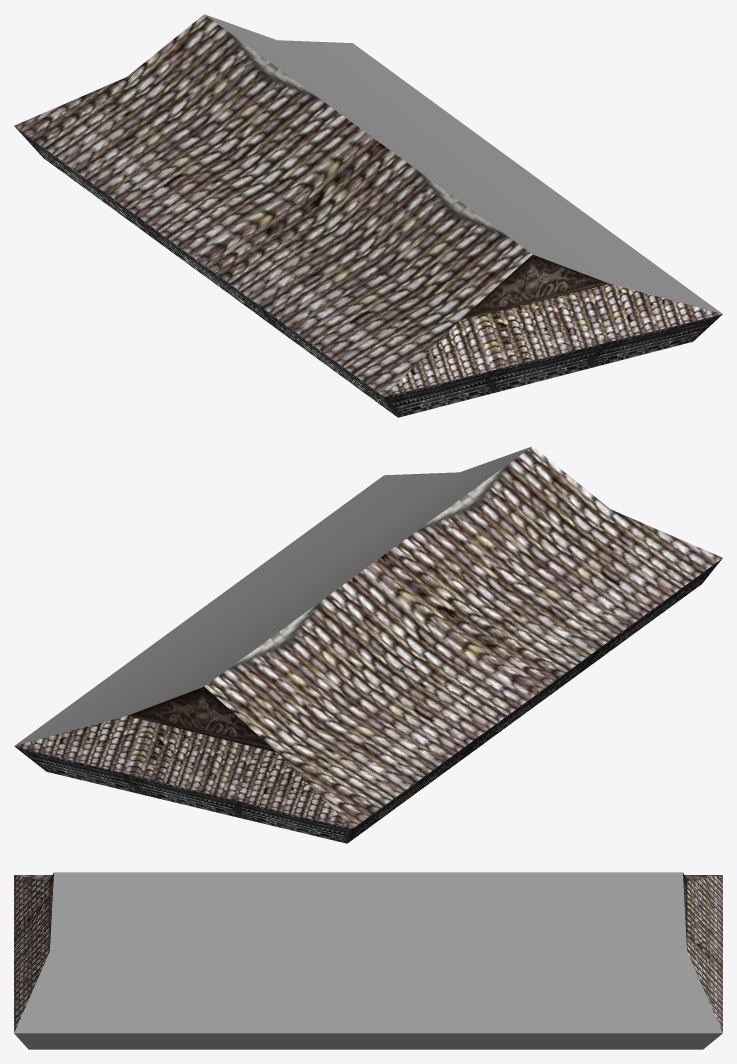
3 renders of one model, top to bottom at view 1: azimuth 30°, elevation 25°; view 2: azimuth 150°, elevation 25°; view 3: azimuth 270°, elevation 25°, orthographic. The views are drawn at different scales.
Parts seen in each view (by area): view 1: Box219; view 2: Box219; view 3: Box219.
Part boxes in pixels (bbox=[...]): Box219: bbox=[14, 14, 722, 417]; Box219: bbox=[14, 446, 722, 843]; Box219: bbox=[14, 872, 722, 1049].
Size of the model in its own units: 289 by 92.61 by 547.
